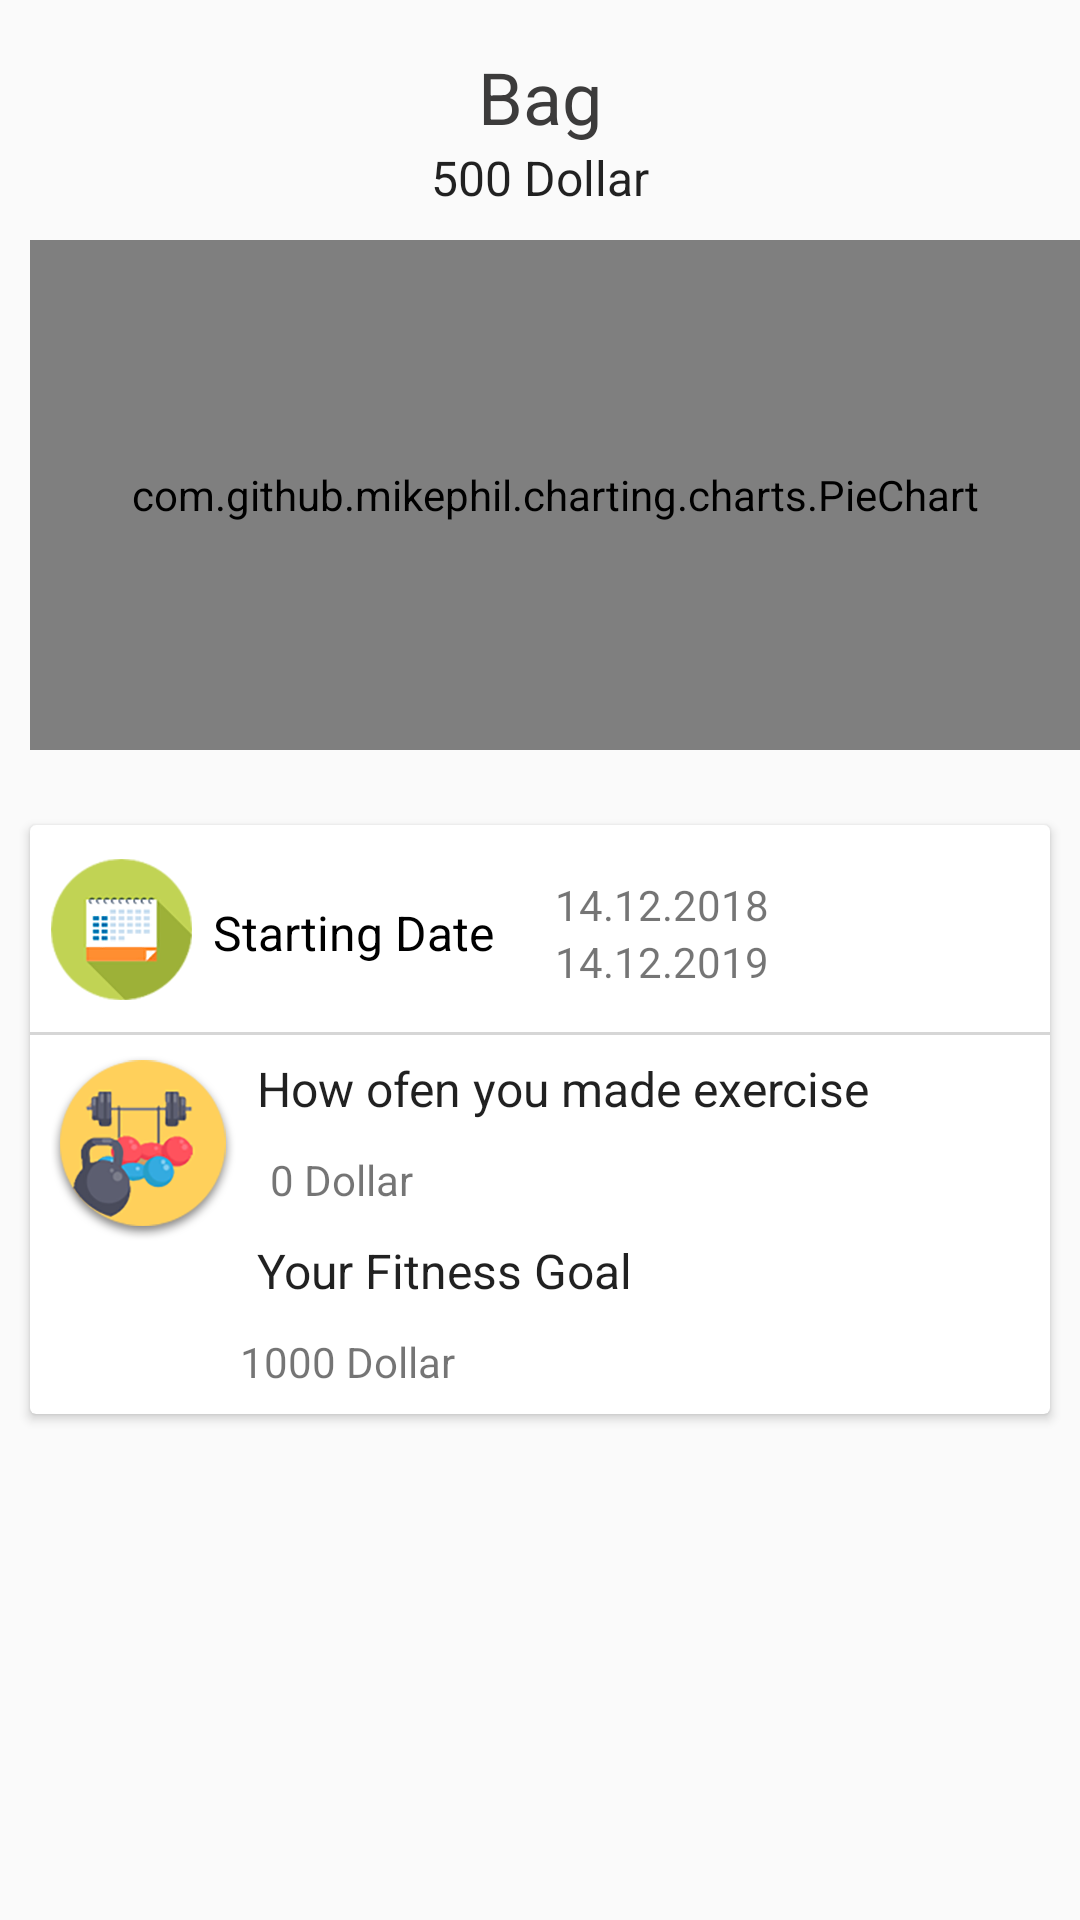

Icons on this 1080x1920 Android screen, each with the point to tap as (x,y):
sport: (143,1147)
